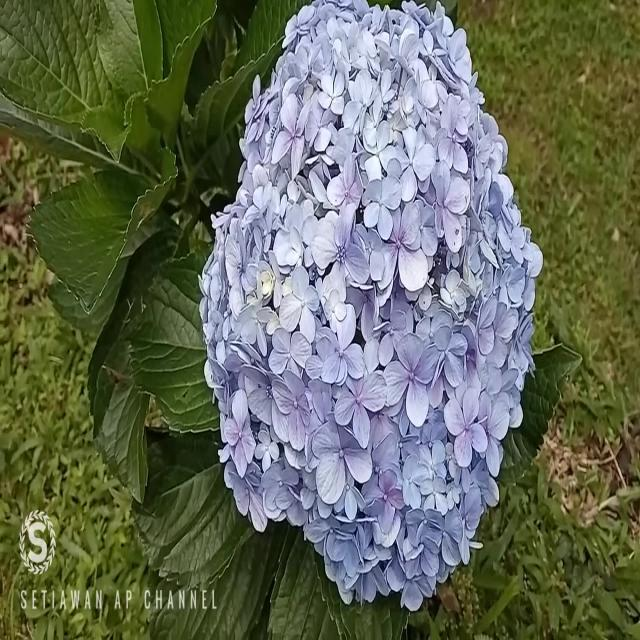Flower: (197, 2, 539, 617)
